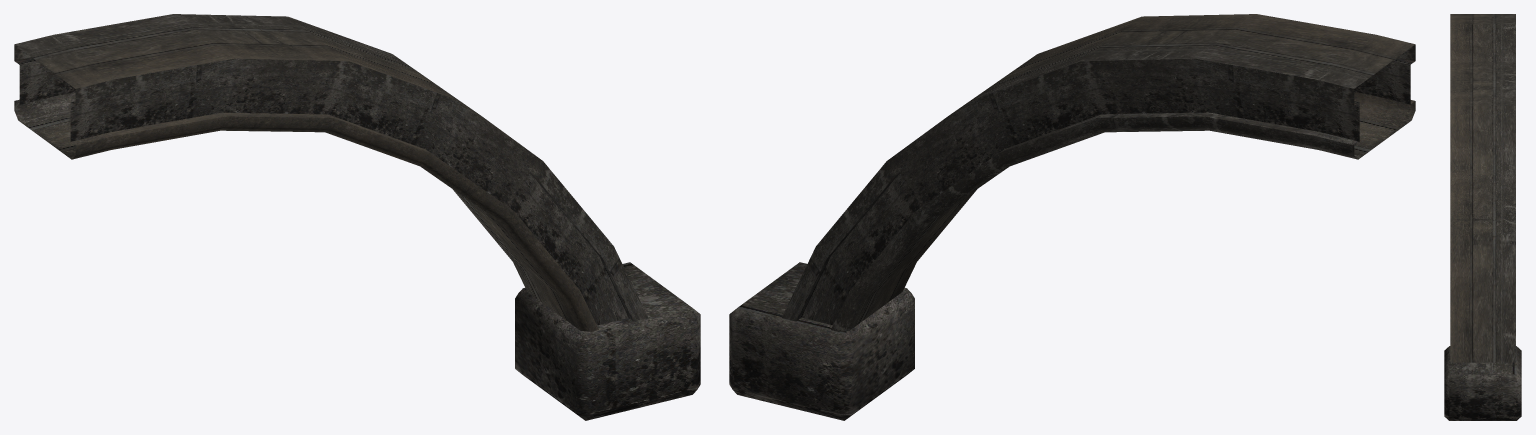
The model's file is large_arch.DAE.
3 views of the same model, side by side, from view 1: azimuth 30°, elevation 25°; view 2: azimuth 150°, elevation 25°; view 3: azimuth 270°, elevation 25° (orthographic). The views are drawn at different scales.
Parts seen in each view (by area): view 1: large_arch; view 2: large_arch; view 3: large_arch.
Boxes of the visible parts, box(x1,y1,x2,y2) form: large_arch: box(14, 14, 700, 420); large_arch: box(729, 14, 1415, 420); large_arch: box(1444, 14, 1521, 420).
Bounding box in the file's own units: 4.75 × 0.9448 × 3.31.
